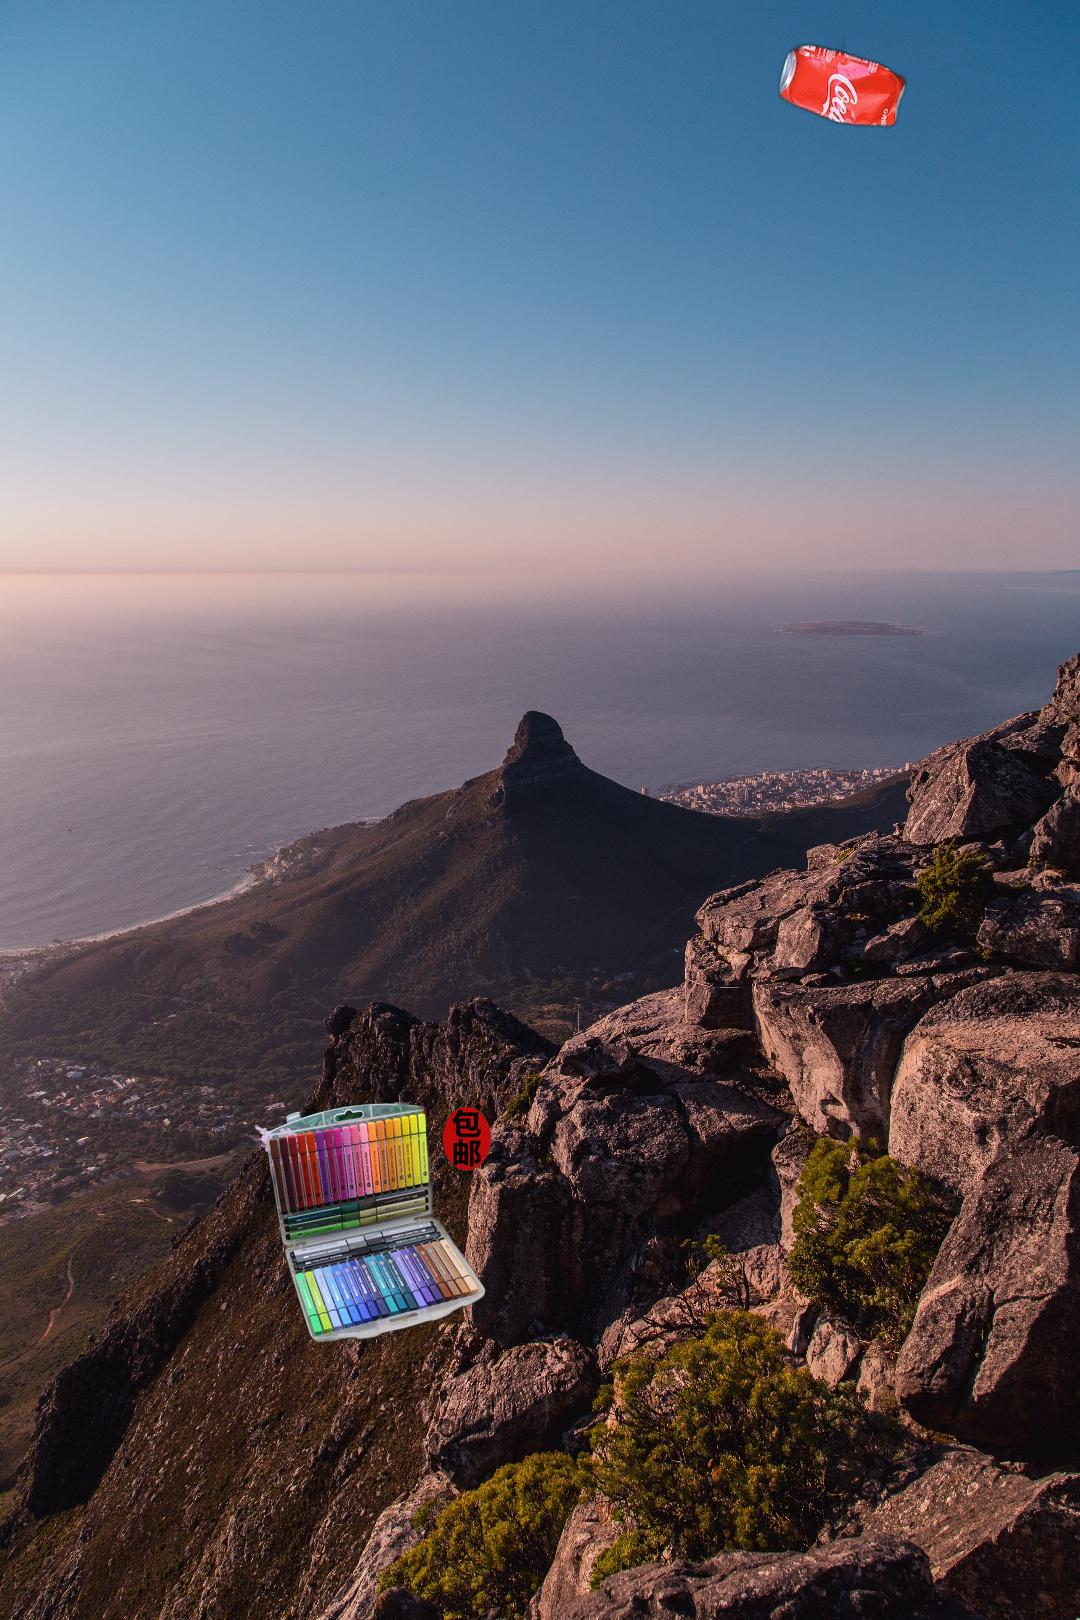metal-cans: (774, 27, 910, 133)
penholder: (252, 1102, 492, 1342)
trashbox-cardboard: (676, 387, 1080, 790)
